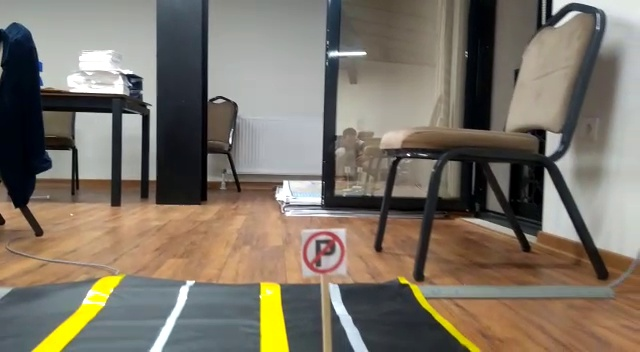park_yapilmaz: (300, 229, 346, 276)
